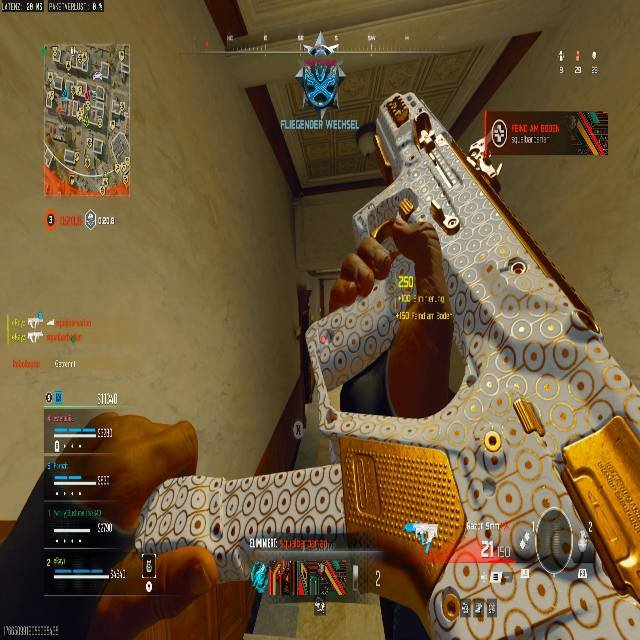player: (296, 75, 638, 640), (296, 45, 343, 120)
